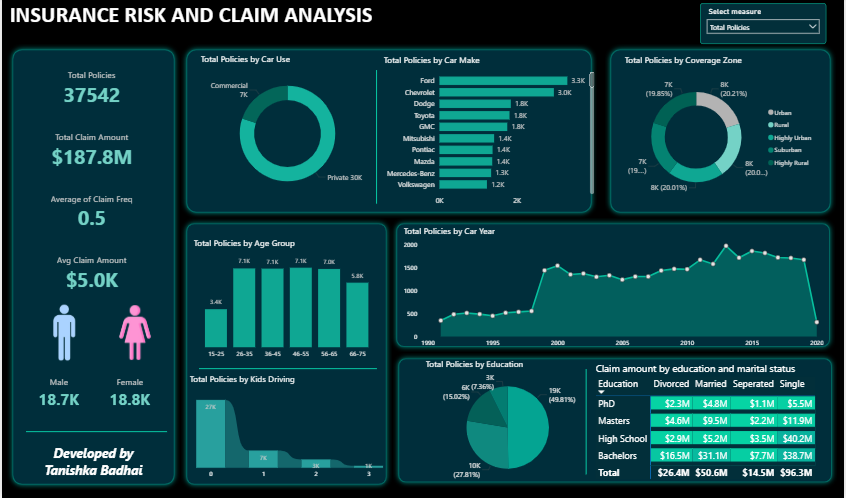

This screenshot's page, from the dashboard's own definition file:
{"tool":"powerbi","page":{"name":"Page 1","canvas":[1600,950],"ordinal":0},"visuals":[{"type":"textbox","box":[10,0,726.7,63.3],"z":0},{"type":"shape","box":[9.5,87.4,328.7,847.4],"z":1000},{"type":"cardVisual","fields":{"Data":["insurance_data_car.Total Policies","insurance_data_car.Total Claim Amount","Avg(insurance_data_car.Claim Freq)","insurance_data_car.Avg Claim Amount"]},"box":[36.1,117.8,269.8,459.8],"z":2000},{"type":"cardVisual","fields":{"Data":["insurance_data_car.Male Count","insurance_data_car.Female Count"]},"box":[45.6,693.5,260.3,110.2],"z":3000},{"type":"image","box":[60.8,577.6,114,115.9],"z":4000},{"type":"image","box":[195.7,577.6,114,115.9],"z":5000},{"type":"slicer","fields":{"Values":["Select measure.Select measure"]},"box":[1326,10,240,78],"z":6000},{"type":"shape","box":[340.1,87.4,790.4,330.6],"z":7000},{"type":"donutChart","fields":{"Y":["insurance_data_car.Total Policies"],"Category":["insurance_data_car.Car Use"]},"box":[372.4,104.5,340.1,285],"z":8000},{"type":"clusteredBarChart","fields":{"Y":["insurance_data_car.Total Policies"],"Category":["insurance_data_car.Car Make"]},"box":[720,106,410,296],"z":9000},{"type":"shape","box":[1145.7,87.4,438.9,330.6],"z":10000},{"type":"donutChart","fields":{"Y":["insurance_data_car.Total Policies"],"Category":["insurance_data_car.Coverage Zone"]},"box":[1178,106.4,374.3,294.5],"z":11000},{"type":"shape","box":[340.1,418,400.9,516.8],"z":12000},{"type":"clusteredColumnChart","fields":{"Y":["insurance_data_car.Total Policies"],"Category":["insurance_data_car.Age Group"]},"box":[359.1,454.1,364.8,239.4],"z":13000},{"type":"ribbonChart","fields":{"Y":["insurance_data_car.Total Policies"],"Category":["insurance_data_car.Kids Driving"]},"box":[352,712,390,210],"z":14000},{"type":"shape","box":[740,418,844,255],"z":15000},{"type":"areaChart","fields":{"Y":["insurance_data_car.Total Policies"],"Category":["insurance_data_car.Car Year"]},"box":[758,432,808,242],"z":16000},{"type":"shape","box":[742,674,844,256],"z":16001},{"type":"pieChart","fields":{"Category":["insurance_data_car.Education"],"Y":["insurance_data_car.Total Policies"]},"box":[800,684,322,243],"z":16002},{"type":"pivotTable","title":"Claim amount by education and marital status ","fields":{"Rows":["insurance_data_car.Education"],"Columns":["insurance_data_car.Marital Status"],"Values":["insurance_data_car.Total Claim Amount"]},"box":[1122,690,436,246],"z":16003},{"type":"shape","box":[46,764,268,120],"z":16004},{"type":"textbox","box":[42,844,264,78],"z":16005},{"type":"shape","box":[578,136,268,254],"z":16006},{"type":"shape","box":[374,644,338,120],"z":16007},{"type":"shape","box":[990,704,240,200],"z":16008}]}

Visuals, with their boxes in screenshot pixels (x1, y1, x2, y2), scaled from the page's 1600x950 canvas onto the 846x498 screenshot:
textbox: box(5, 0, 390, 33)
shape: box(5, 46, 179, 490)
cardVisual - insurance_data_car.Total Policies x insurance_data_car.Total Claim Amount: box(19, 62, 162, 303)
cardVisual - insurance_data_car.Male Count x insurance_data_car.Female Count: box(24, 364, 162, 421)
image: box(32, 303, 92, 364)
image: box(103, 303, 164, 364)
slicer - Select measure.Select measure: box(701, 5, 828, 46)
shape: box(180, 46, 598, 219)
donutChart - insurance_data_car.Total Policies x insurance_data_car.Car Use: box(197, 55, 377, 204)
clusteredBarChart - insurance_data_car.Total Policies x insurance_data_car.Car Make: box(381, 56, 597, 211)
shape: box(606, 46, 838, 219)
donutChart - insurance_data_car.Total Policies x insurance_data_car.Coverage Zone: box(623, 56, 821, 210)
shape: box(180, 219, 392, 490)
clusteredColumnChart - insurance_data_car.Total Policies x insurance_data_car.Age Group: box(190, 238, 383, 364)
ribbonChart - insurance_data_car.Total Policies x insurance_data_car.Kids Driving: box(186, 373, 392, 483)
shape: box(391, 219, 838, 353)
areaChart - insurance_data_car.Total Policies x insurance_data_car.Car Year: box(401, 226, 828, 353)
shape: box(392, 353, 839, 488)
pieChart - insurance_data_car.Education x insurance_data_car.Total Policies: box(423, 359, 593, 486)
"Claim amount by education and marital status " pivotTable: box(593, 362, 824, 491)
shape: box(24, 400, 166, 463)
textbox: box(22, 442, 162, 483)
shape: box(306, 71, 447, 204)
shape: box(198, 338, 376, 400)
shape: box(523, 369, 650, 474)
